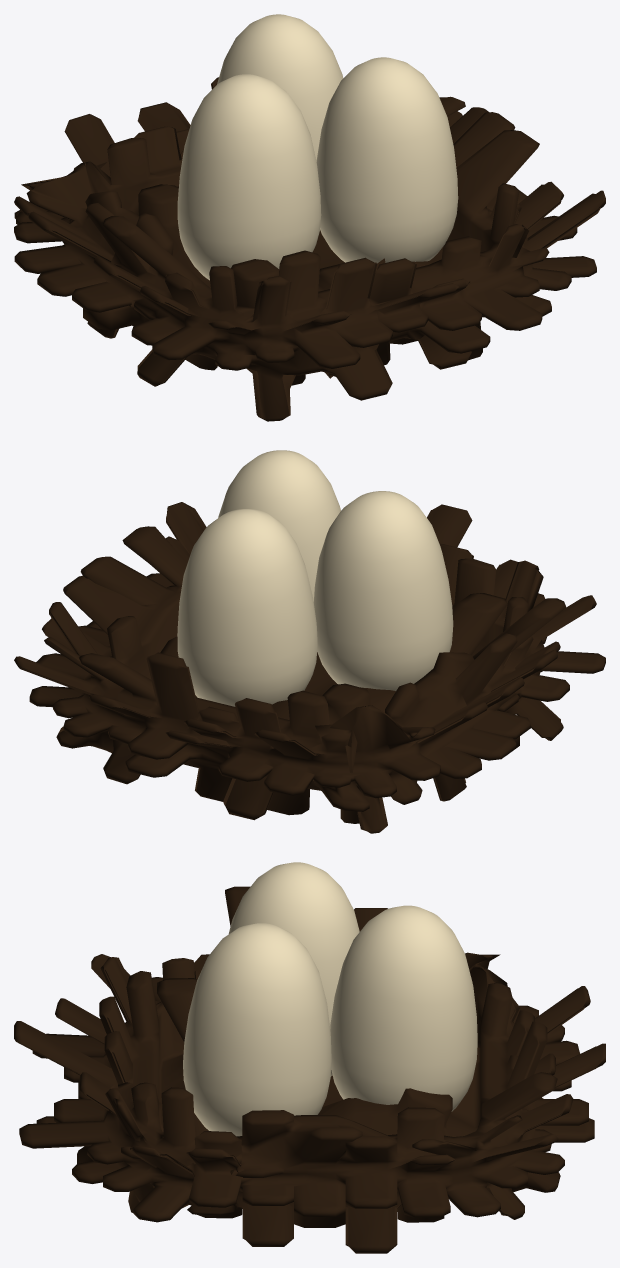
The model's file is NEST2 (1).fbx.
The picture shows the model from 3 angles, top to bottom: view 1: azimuth 30°, elevation 25°; view 2: azimuth 150°, elevation 25°; view 3: azimuth 270°, elevation 25°; orthographic projection. The views are drawn at different scales.
Visible parts, largest first — view 1: Sphere.002; view 2: Sphere.002; view 3: Sphere.002.
Part boxes in pixels (bbox=[...]): Sphere.002: bbox=[14, 14, 605, 421]; Sphere.002: bbox=[14, 450, 605, 833]; Sphere.002: bbox=[14, 862, 605, 1253].
Bounding box in the file's own units: 160 × 87.5 × 170.
